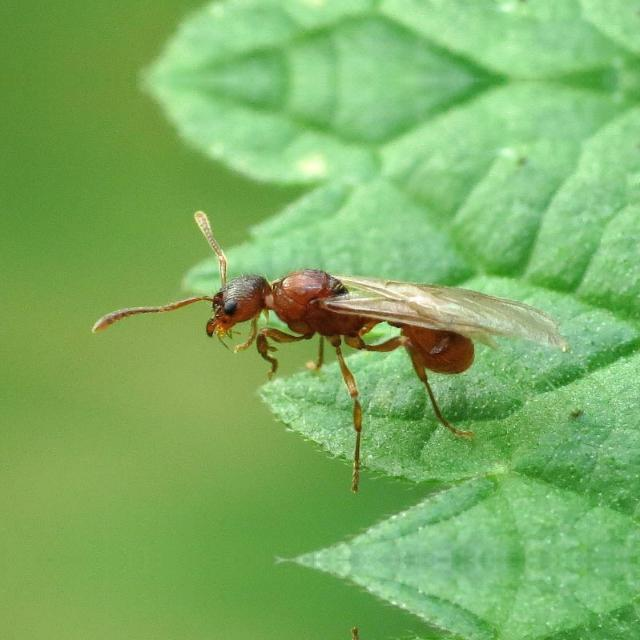Myrmica: (147, 220, 548, 456)
